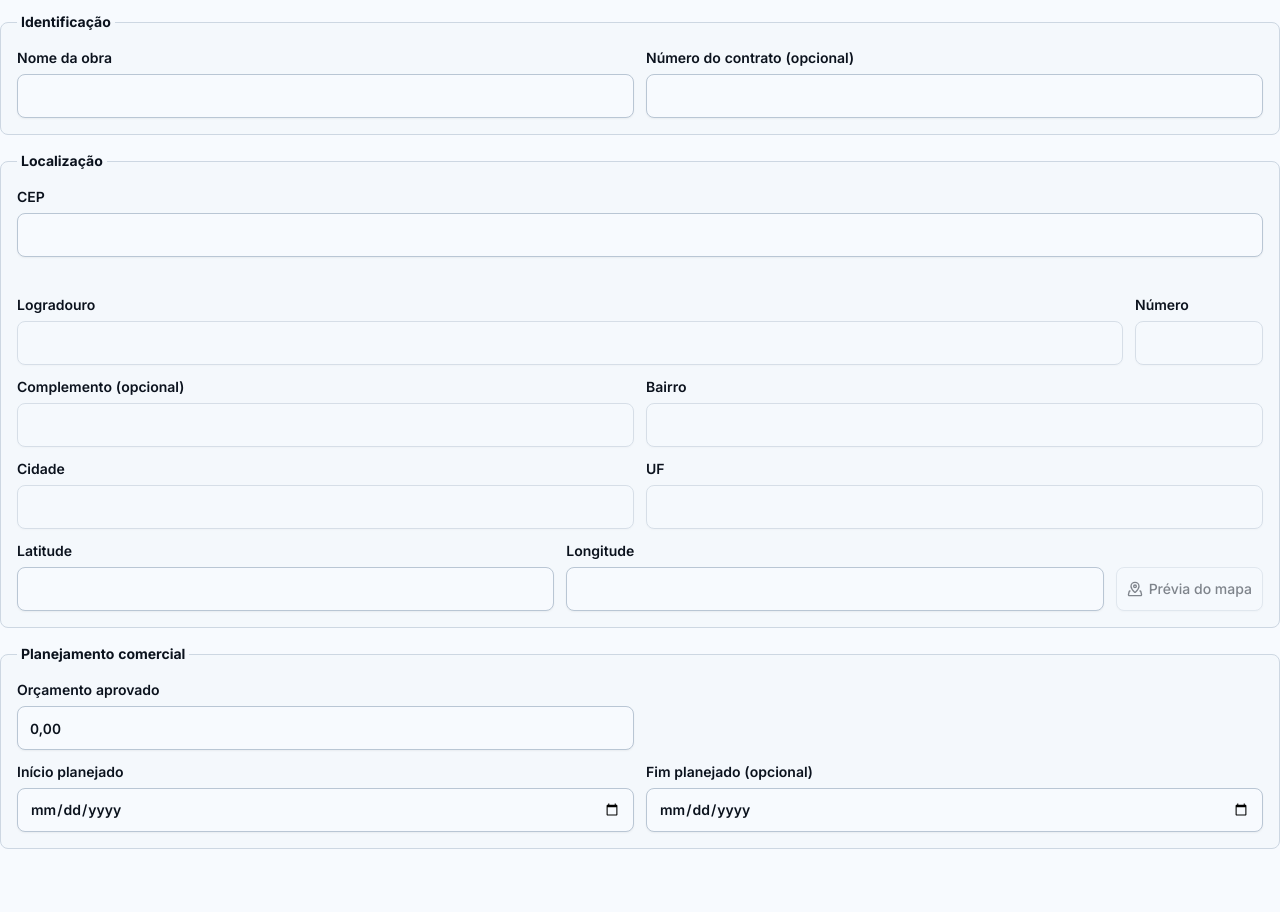
Project wizard polish › fills structured address fields from ViaCEP
Expected: the field labelled "Logradouro" is disabled, [17,321,1123,365]
Expected: the field labelled "Latitude" is enabled, [17,567,554,611]
In the field labelled "CEP": [640, 235] box [17,213,1263,257], type "60170000"
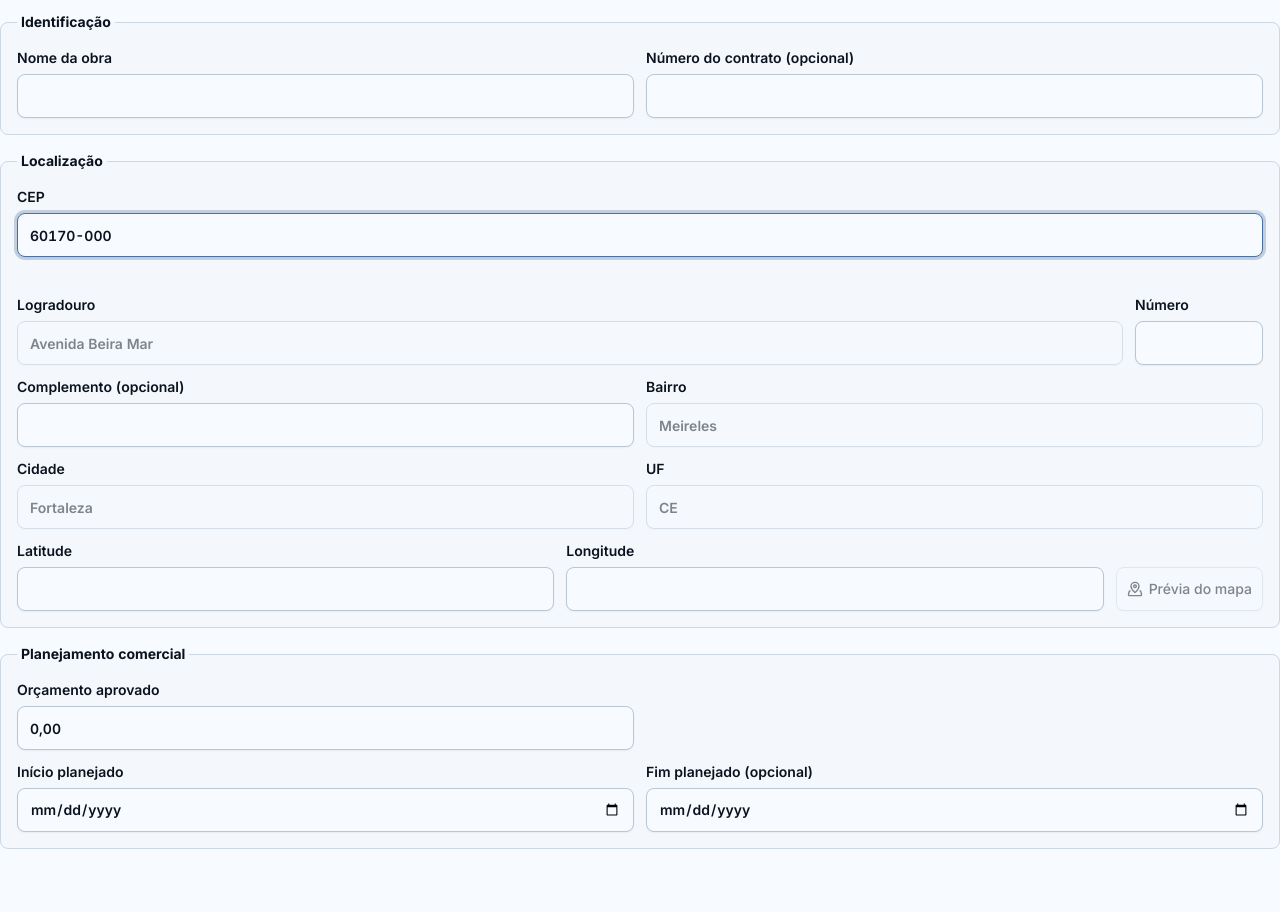
Expected: the field showing "Avenida Beira Mar" is shown, [17,321,1123,365]
Expected: the field showing "Meireles" is shown, [646,403,1263,447]
Expected: the field showing "Fortaleza" is shown, [17,485,634,529]
